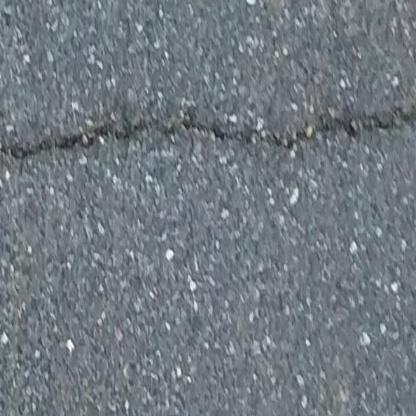Cracks: (0, 53, 416, 231)
